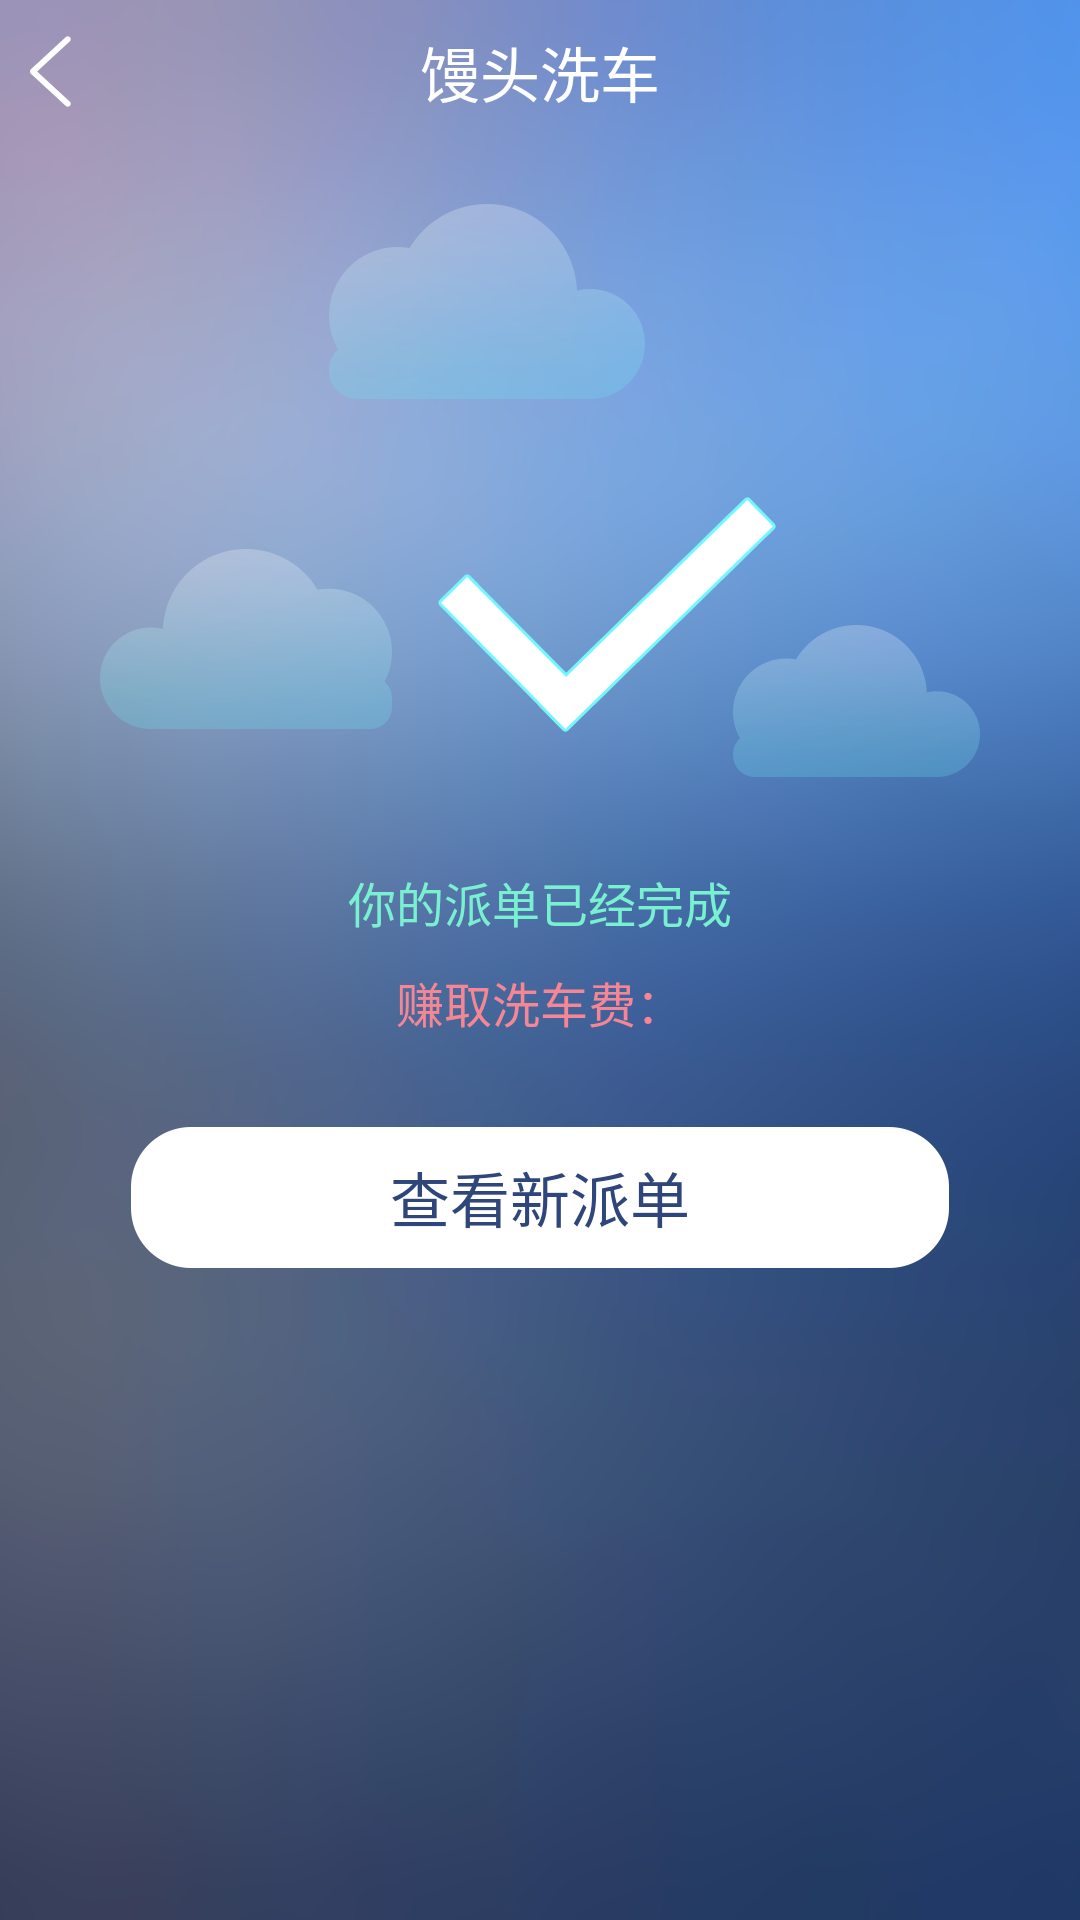

Locate icon controls on the screen. Image size 1080 x 1920, boxes as BBox(x1, y1, x2, y2).
titlebar back: BBox(30, 36, 71, 107)
